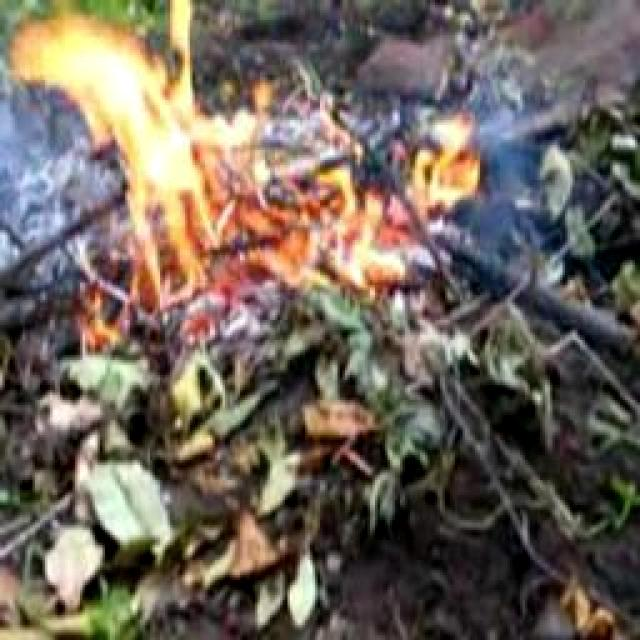fire: (124, 118, 474, 326), (8, 27, 228, 211)
